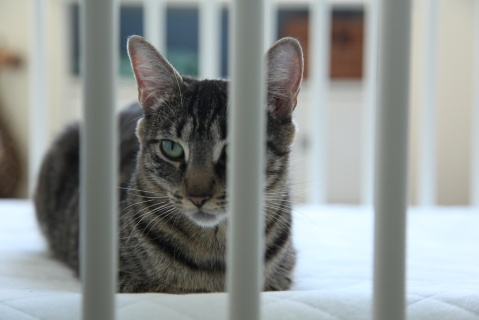Cat: (30, 34, 331, 292)
